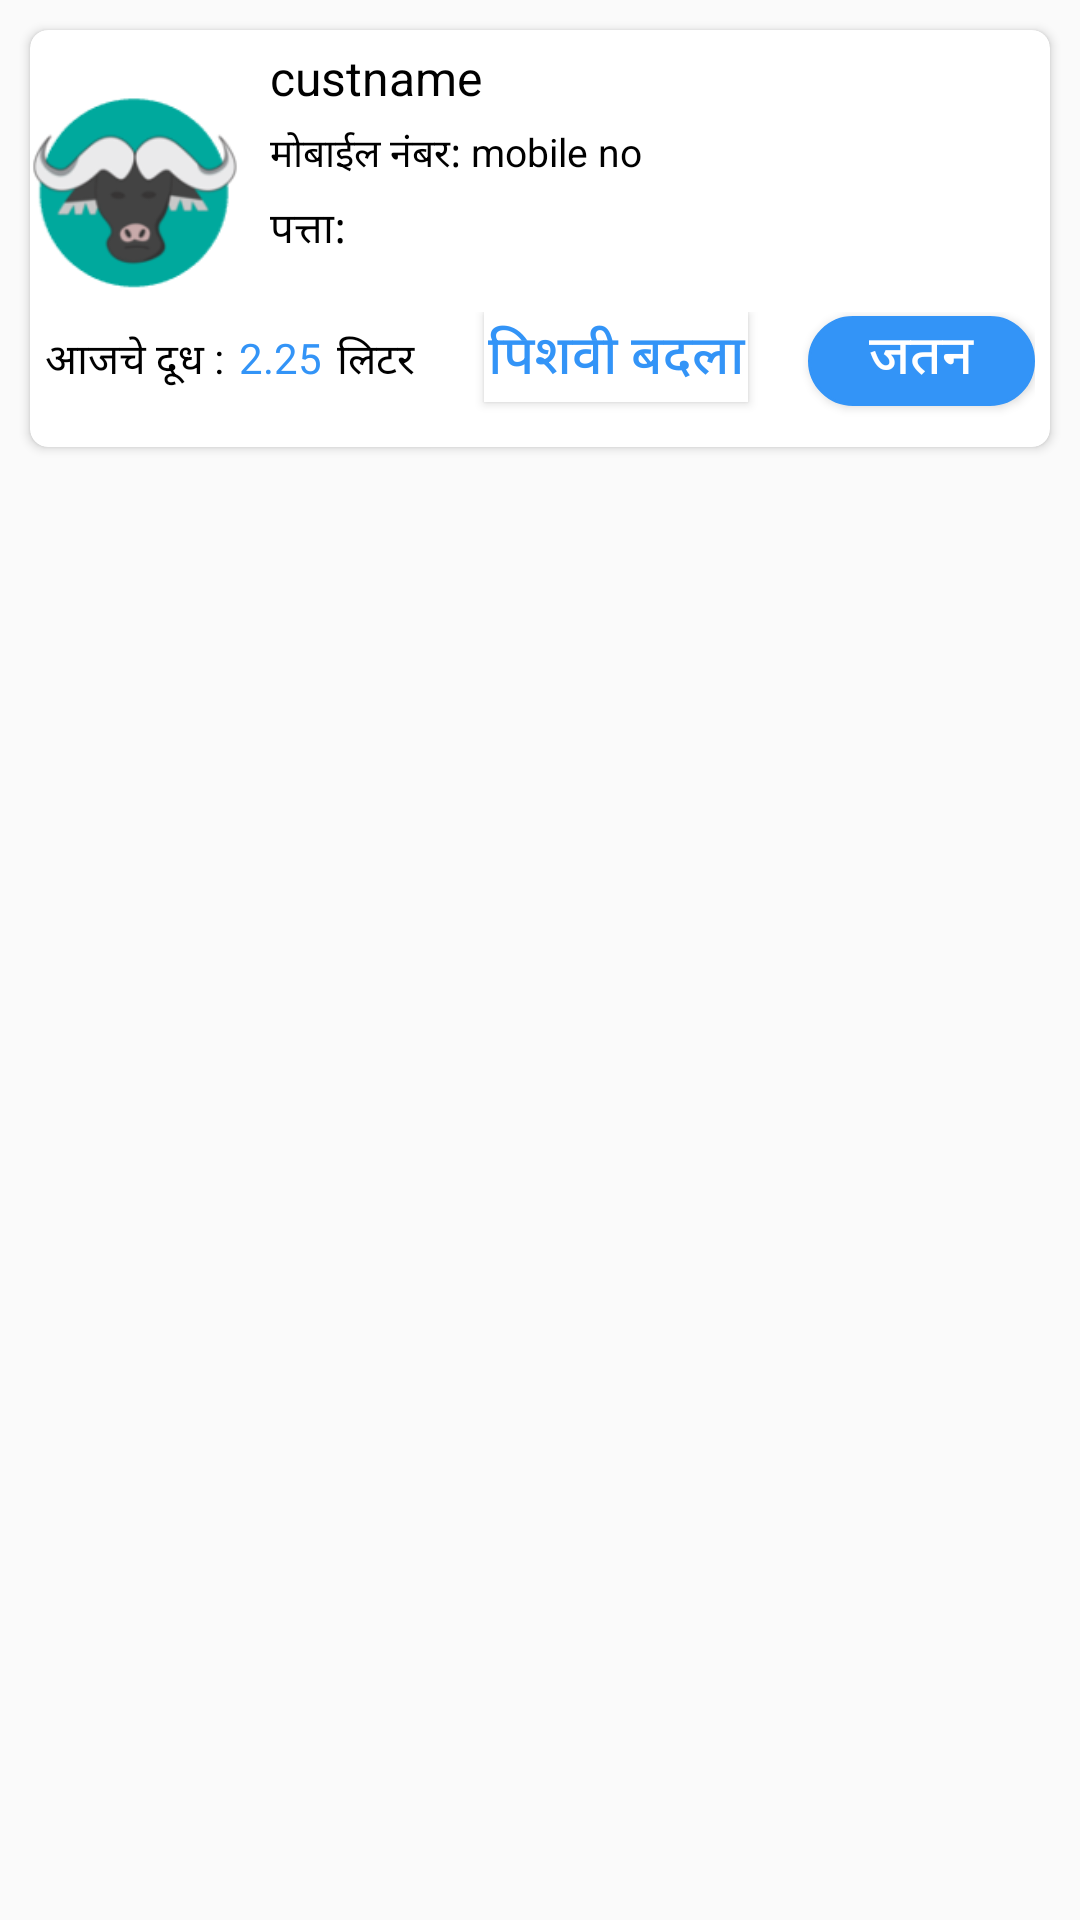

Icon click points for this 1080 x 1920 phone screenshot, format (x,y):
buffallo: (135,193)
